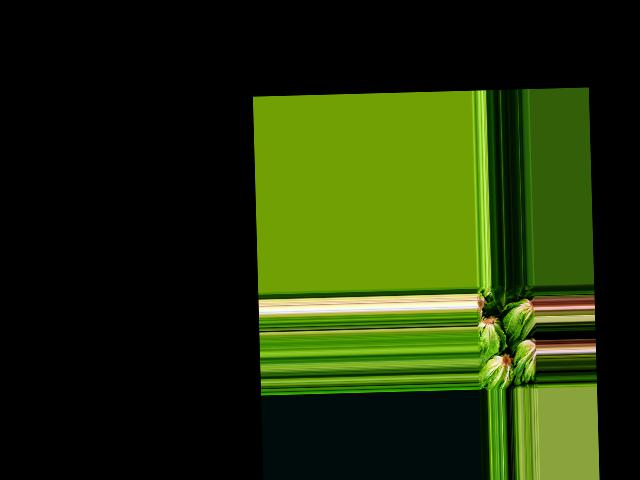lettuce: (490, 284, 515, 309)
